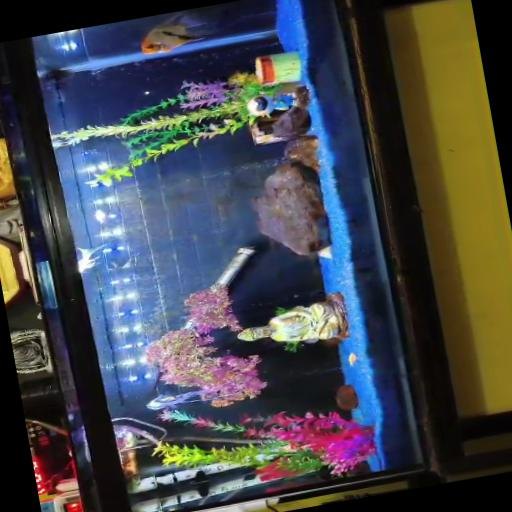Fish: (141, 0, 275, 54), (141, 12, 207, 54), (148, 390, 214, 410), (78, 244, 106, 272), (349, 353, 358, 366)
